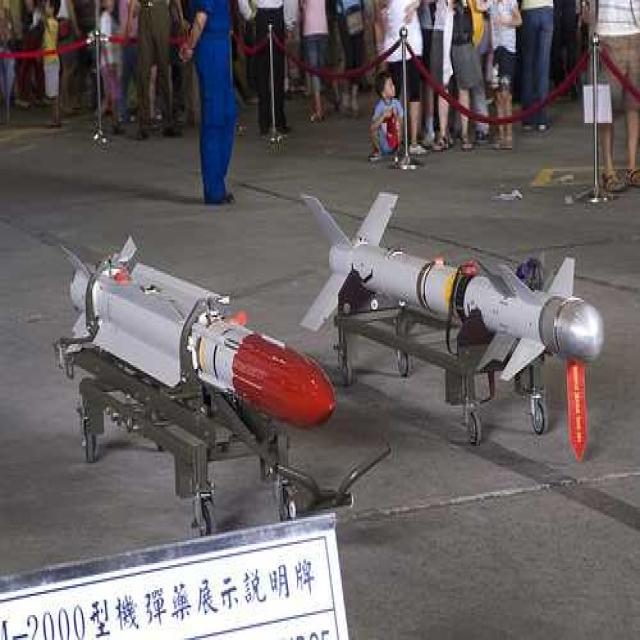missile: (296, 185, 605, 379), (57, 233, 334, 422)
